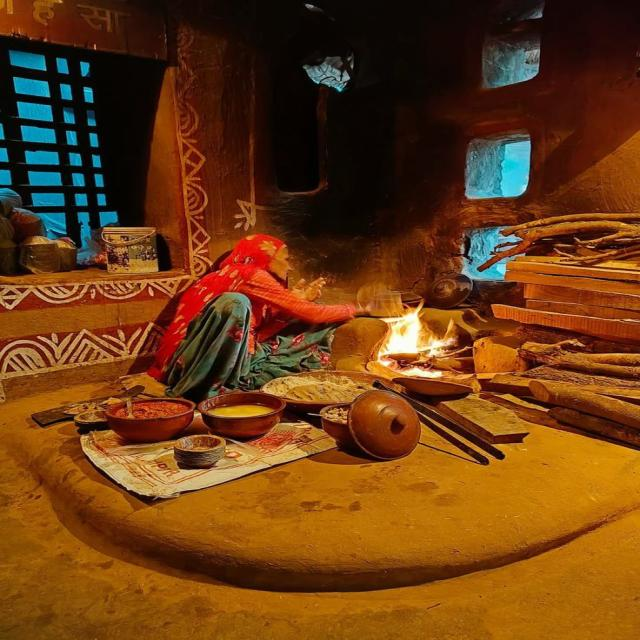fire: (376, 299, 454, 378)
